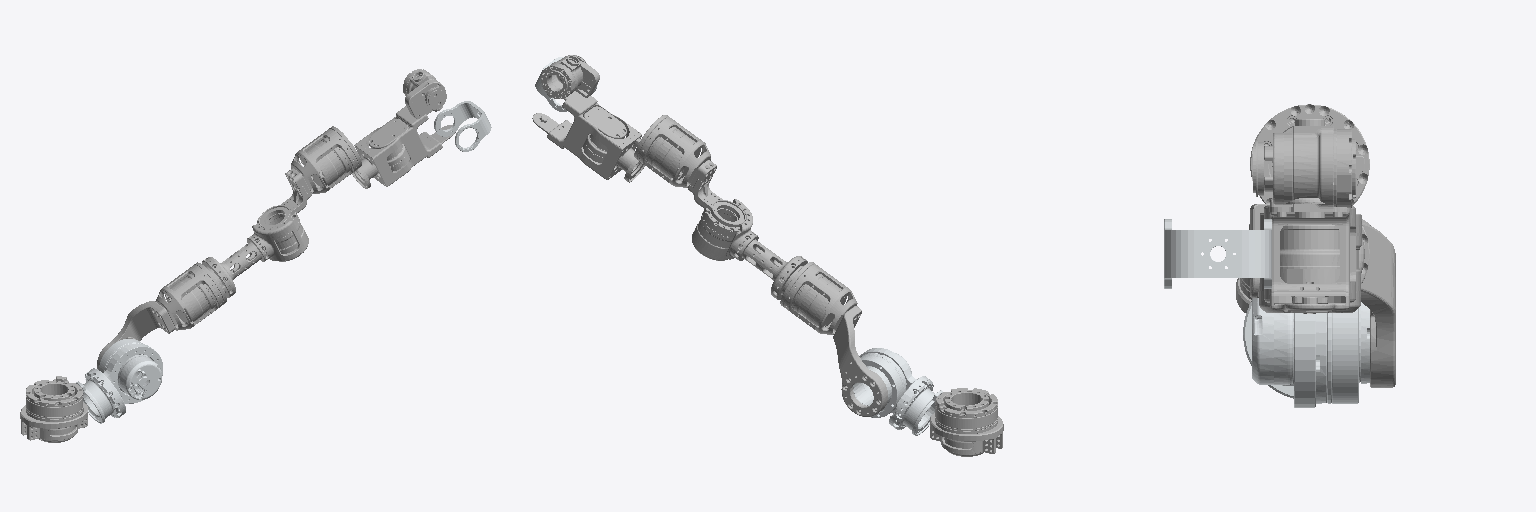
robot.urdf — human_right_arm:
<?xml version="1.0" encoding="utf-8"?>
<!-- This URDF was automatically created by SolidWorks to URDF Exporter! Originally created by [author] ([email redacted]) 
     Commit Version: 1.6.0-1-g15f4949  Build Version: 1.6.7594.29634
     For more information, please see http://wiki.ros.org/sw_urdf_exporter -->
<robot
  name="human_right_arm">
  <link
    name="base_link">
    <inertial>
      <origin
        xyz="1.37352047471449E-06 -0.0253250353768743 -0.0835743312941882"
        rpy="0 0 0" />
      <mass
        value="17.8231752123914" />
      <inertia
        ixx="0.119710210297738"
        ixy="-3.14492309417168E-06"
        ixz="-6.74573383336699E-07"
        iyy="0.0839896976645685"
        iyz="-0.00293085059302581"
        izz="0.163798975550701" />
    </inertial>
    <visual>
      <origin
        xyz="0 0 0"
        rpy="0 0 0" />
      <geometry>
        <mesh
          filename="package://meshes/base_Link.STL" />
      </geometry>
      <material
        name="">
        <color
          rgba="0.752941176470588 0.752941176470588 0.752941176470588 1" />
      </material>
    </visual>
    <collision>
      <origin
        xyz="0 0 0"
        rpy="0 0 0" />
      <geometry>
        <mesh
          filename="package://meshes/base_Link.STL" />
      </geometry>
    </collision>
  </link>
  <link
    name="1_Link">
    <inertial>
      <origin
        xyz="0.0000    0.0051    0.0577"
        rpy="0 0 0" />
      <mass
        value="0.7347" />
      <inertia
        ixx=" 0.6166e-03"
        ixy="   -0.0005e-03"
        ixz="    0.0024e-03"
        iyy="    0.6559e-03"
        iyz="    0.4737e-03"
        izz="    0.3844e-03"/>
    </inertial>
    <visual>
      <origin
        xyz="0 0 0"
        rpy="0 0 0" />
      <geometry>
        <mesh
          filename="package://meshes/1_Link.STL" />
      </geometry>
      <material
        name="">
        <color
          rgba="0.89804 0.91765 0.92941 1" />
      </material>
    </visual>
    <collision>
      <origin
        xyz="0 0 0"
        rpy="0 0 0" />
      <geometry>
        <mesh
          filename="package://meshes/1_Link.STL" />
      </geometry>
    </collision>
  </link>
  <joint
    name="J1"
    type="revolute">
    <origin
      xyz="0.0498  0    0.0232"
      rpy="0 1.1345 0" />
    <parent
      link="base_link" />
    <child
      link="1_Link" />
    <axis
      xyz="0 0 1" />
    <limit
      lower="0"
      upper="0"
      effort="0"
      velocity="0" />
    <mimic
      joint="J1"
      multiplier="1"
      offset="0" />
  </joint>
  <link
    name="2_Link">
    <inertial>
      <origin
        xyz="-0.0360   -0.0260    0.0942"
        rpy="0 0 0" />
      <mass
        value="0.4907" />
      <inertia
        ixx="0.0009"
        ixy="    0.0010"
        ixz="   -0.0035"
        iyy="    0.0009"
        iyz="   -0.0026"
        izz="    0.0003"/>
    </inertial>
    <visual>
      <origin
        xyz="0 0 0"
        rpy="0 0 0" />
     <geometry>
        <mesh
          filename="package://meshes/2_Link.STL" />
      </geometry>
      <material
        name="">
        <color
          rgba="0.75294 0.75294 0.75294 1" />
      </material>
    </visual>
    <collision>
      <origin
        xyz="0 0 0"
        rpy="0 0 0" />
      <geometry>
        <mesh
          filename="package://meshes/2_Link.STL" />
      </geometry>
    </collision>
  </link>
  <joint
    name="J2"
    type="revolute">
    <origin
      xyz="0 0.032 0.067"
      rpy="0 0 0" />
    <parent
      link="1_Link" />
    <child
      link="2_Link" />
    <axis
      xyz="0 1 0" />
    <limit
      lower="0"
      upper="0"
      effort="0"
      velocity="0" />
    <mimic
      joint="J2"
      multiplier="1"
      offset="0" />
  </joint>
  <link
    name="3_Link">
    <inertial>
      <origin
        xyz=" -0.0005   -0.0007    0.0856"
        rpy="0 0 0" />
      <mass
        value="0.4527" />
      <inertia
        ixx="0.8000e-03"
        ixy="    0.0015e-03"
        ixz="   -0.0404e-03"
        iyy="    0.8052e-03"
        iyz="   -0.0577e-03"
        izz="    0.1577e-03" />
    </inertial>
    <visual>
      <origin
        xyz="0 0 0"
        rpy="0 0 0" />
      <geometry>
        <mesh
          filename="package://meshes/3_Link.STL" />
      </geometry>
      <material
        name="">
        <color
          rgba="0.75294 0.75294 0.75294 1" />
      </material>
    </visual>
    <collision>
      <origin
        xyz="0 0 0"
        rpy="0 0 0" />
      <geometry>
        <mesh
          filename="package://meshes/3_Link.STL" />
      </geometry>
    </collision>
  </link>
  <joint
    name="J3"
    type="revolute">
    <origin
      xyz="-0.04 -0.032 0.13653"
      rpy="0 0 0" />
    <parent
      link="2_Link" />
    <child
      link="3_Link" />
    <axis
      xyz="0 0 1" />
    <limit
      lower="0"
      upper="0"
      effort="0"
      velocity="0" />
    <mimic
      joint="J3"
      multiplier="1"
      offset="0" />
  </joint>
  <link
    name="4_Link">
    <inertial>
      <origin
        xyz="-0.0207    0.0001    0.0871"
        rpy="0 0 0" />
      <mass
        value="0.4300" />
      <inertia
        ixx="0.3986e-03"
        ixy="   -0.0010e-03"
        ixz="    0.0500e-03"
        iyy="    0.4245e-03"
        iyz="   -0.0006e-03"
        izz="    0.1765e-03"    />
    </inertial>
    <visual>
      <origin
        xyz="0 0 0"
        rpy="0 0 0" />
      <geometry>
        <mesh
          filename="package://meshes/4_Link.STL" />
      </geometry>
      <material
        name="">
        <color
          rgba="0.75294 0.75294 0.75294 1" />
      </material>
    </visual>
    <collision>
      <origin
        xyz="0 0 0"
        rpy="0 0 0" />
      <geometry>
        <mesh
          filename="package://meshes/4_Link.STL" />
      </geometry>
    </collision>
  </link>
  <joint
    name="J4"
    type="revolute">
    <origin
      xyz="-0.02253 0.0 0.11"
      rpy="0 0 3.1415926" />
    <parent
      link="3_Link" />
    <child
      link="4_Link" />
    <axis
      xyz="1 0 0" />
    <limit
      lower="0"
      upper="0"
      effort="0"
      velocity="0" />
    <mimic
      joint="J4"
      multiplier="1"
      offset="0" />
  </joint>
  <link
    name="5_Link">
    <inertial>
      <origin
        xyz="0.0014   -0.0000    0.0548"
        rpy="0 0 0" />
      <mass
        value=" 0.3358" />
      <inertia
        ixx="0.3522e-03"
        ixy="    0.0000e-03"
        ixz="    0.0627e-03"
        iyy="    0.3921e-03"
        iyz="   -0.0004e-03"
        izz="    0.1444e-03" />
    </inertial>
    <visual>
      <origin
        xyz="0 0 0"
        rpy="0 0 0" />
      <geometry>
        <mesh
          filename="package://meshes/5_Link.STL" />
      </geometry>
      <material
        name="">
        <color
          rgba="0.75294 0.75294 0.75294 1" />
      </material>
    </visual>
    <collision>
      <origin
        xyz="0 0 0"
        rpy="0 0 0" />
      <geometry>
        <mesh
          filename="package://meshes/5_Link.STL" />
      </geometry>
    </collision>
  </link>
  <joint
    name="J5"
    type="revolute">
    <origin
      xyz="-0.0225 0.0 0.11903"
      rpy="0 0 3.1415926" />
    <parent
      link="4_Link" />
    <child
      link="5_Link" />
    <axis
      xyz="0 0 1" />
    <limit
      lower="0"
      upper="0"
      effort="0"
      velocity="0" />
    <mimic
      joint="J5"
      multiplier="1"
      offset="0" />
  </joint>
  <link
    name="6_Link">
    <inertial>
      <origin
        xyz=" -0.0212    0.0022   -0.0014"
        rpy="0 0 0" />
      <mass
        value=" 0.1760" />
      <inertia
        ixx=" 0.4551e-04"
        ixy="   -0.1661e-04"
        ixz="    0.1020e-04"
        iyy="    0.4137e-04"
        iyz="    0.0279e-04"
        izz="    0.4644e-04"/>
    </inertial>
    <visual>
      <origin
        xyz="0 0 0"
        rpy="0 0 0" />
      <geometry>
        <mesh
          filename="package://meshes/6_Link.STL" />
      </geometry>
      <material
        name="">
        <color
          rgba="0.752941176470588 0.752941176470588 0.752941176470588 1" />
      </material>
    </visual>
    <collision>
      <origin
        xyz="0 0 0"
        rpy="0 0 0" />
      <geometry>
        <mesh
          filename="package://meshes/6_Link.STL" />
      </geometry>
    </collision>
  </link>
  <joint
    name="J6"
    type="revolute">
    <origin
      xyz="-0.0214 0.0 0.1225"
      rpy="0 0 0" />
    <parent
      link="5_Link" />
    <child
      link="6_Link" />
    <axis
      xyz="1 0 0" />
    <limit
      lower="0"
      upper="0"
      effort="0"
      velocity="0" />
    <mimic
      joint="J6"
      multiplier="1"
      offset="0" />
  </joint>
  <link
    name="7_Link">
    <inertial>
      <origin
        xyz=" 0.0048    0.0239    0.0724"
        rpy="0 0 0" />
      <mass
        value="0.3250" />
      <inertia
        ixx="0.4005e-03"
        ixy="    0.0726e-03"
        ixz="   -0.0318e-03"
        iyy="    0.3926e-03"
        iyz="   -0.0037e-03"
        izz="    0.1453e-03"/>
    </inertial>
    <visual>
      <origin
        xyz="0 0 0"
        rpy="0 0 0" />
      <geometry>
        <mesh
          filename="package://meshes/7_Link.STL" />
      </geometry>
      <material
        name="">
        <color
          rgba="0.898039215686275 0.917647058823529 0.929411764705882 1" />
      </material>
    </visual>
    <collision>
      <origin
        xyz="0 0 0"
        rpy="0 0 0" />
      <geometry>
        <mesh
          filename="package://meshes/7_Link.STL" />
      </geometry>
    </collision>
  </link>
  <joint
    name="J7"
    type="revolute">
    <origin
      xyz="0.0214 -0.023 0.0"
      rpy="0 0 0" />
    <parent
      link="6_Link" />
    <child
      link="7_Link" />
    <axis
      xyz="0 1 0" />
    <limit
      lower="0"
      upper="0"
      effort="0"
      velocity="0" />
    <mimic
      joint="J7"
      multiplier="1"
      offset="0" />
  </joint>
</robot>

--- What the picture shows (computed from the rendered views, not written in the file) ---
The picture shows the robot from 3 angles, left to right: view 1: azimuth 30°, elevation 25°; view 2: azimuth 150°, elevation 25°; view 3: azimuth 270°, elevation 25°; orthographic projection.
Robot: human_right_arm — 8 links, 7 joints (7 revolute); root link base_link; default pose: every joint at zero.
Links seen in each view (by area): view 1: 1_Link, 2_Link, 5_Link, 4_Link, base_link, 3_Link, 6_Link, 7_Link; view 2: 2_Link, 5_Link, 4_Link, 3_Link, base_link, 1_Link, 6_Link; view 3: 1_Link, 5_Link, 6_Link, 7_Link, 2_Link, 4_Link, 3_Link.
Boxes of the visible links, box(x1,y1,x2,y2) form: 1_Link: box(76, 339, 162, 423); 2_Link: box(97, 262, 226, 369); 5_Link: box(352, 106, 455, 188); 4_Link: box(259, 126, 361, 227); base_link: box(20, 376, 87, 442); 3_Link: box(202, 207, 308, 297); 6_Link: box(403, 69, 446, 118); 7_Link: box(434, 101, 491, 151); 2_Link: box(780, 262, 887, 416); 5_Link: box(532, 81, 644, 182); 4_Link: box(634, 115, 745, 227); 3_Link: box(692, 199, 807, 299); base_link: box(930, 388, 1003, 456); 1_Link: box(853, 348, 942, 435); 6_Link: box(541, 55, 599, 98); 1_Link: box(1243, 298, 1369, 407); 5_Link: box(1264, 198, 1355, 309); 6_Link: box(1253, 119, 1355, 217); 7_Link: box(1164, 219, 1271, 288); 2_Link: box(1303, 222, 1395, 387); 4_Link: box(1250, 104, 1369, 205); 3_Link: box(1250, 204, 1364, 312).
Bounding box of the posed robot: 0.6165 × 0.116 × 0.3647 m (x, y, z).
Meshes: 8 distinct files referenced, 8 mesh visuals loaded (8 binary STL).